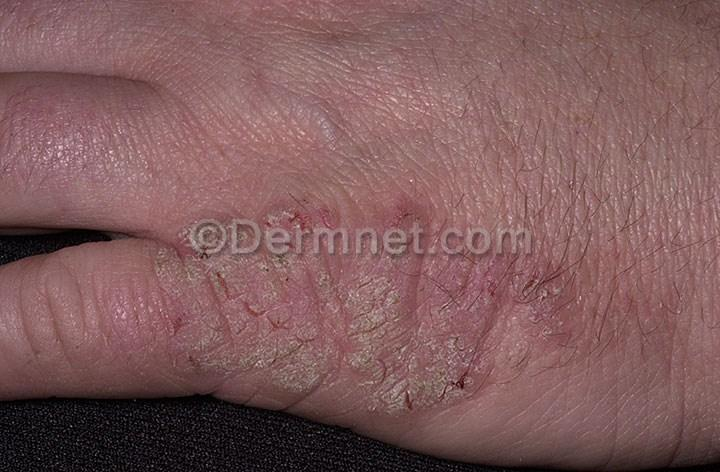Eczema: (289, 261, 501, 423), (148, 255, 283, 383), (514, 256, 618, 344), (248, 187, 360, 236), (376, 190, 441, 233)
